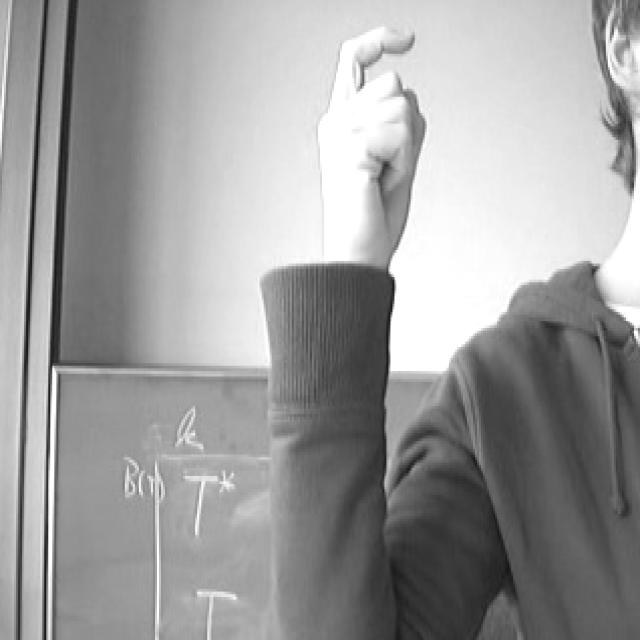X: (305, 10, 446, 273)
